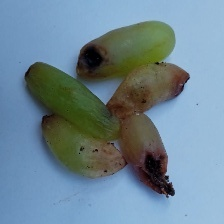grapes: (43, 32, 179, 175)
